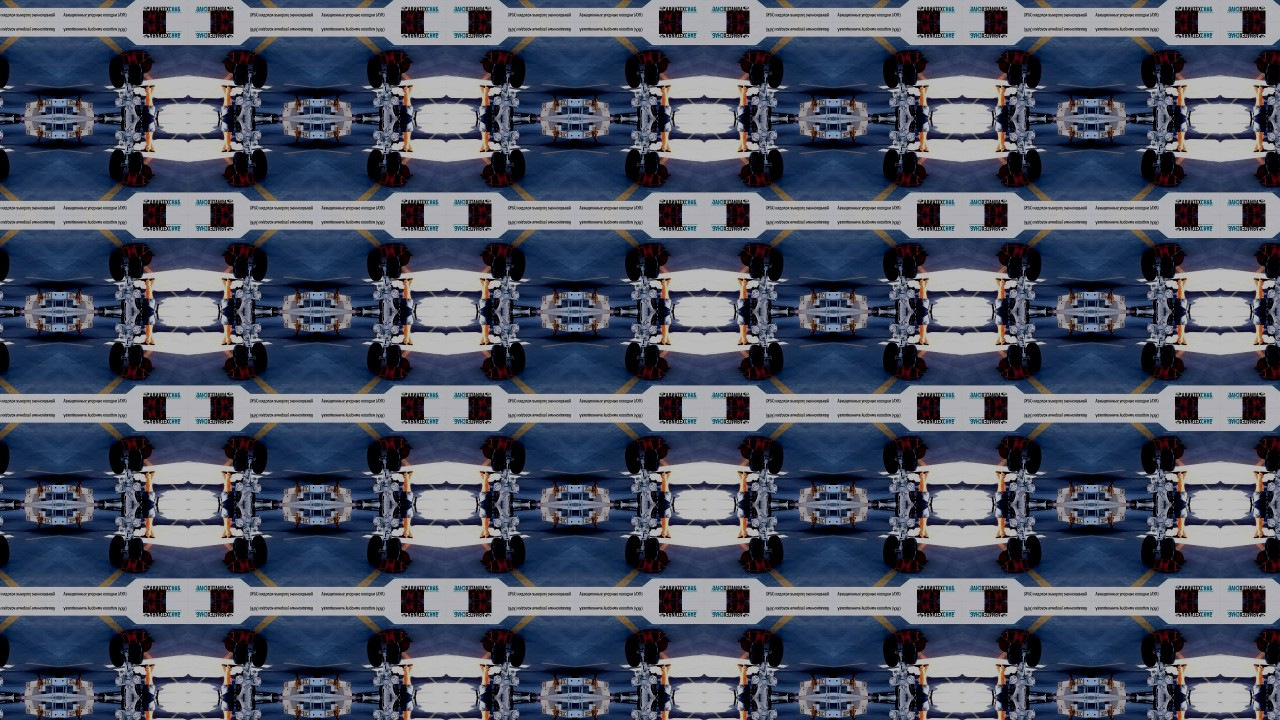chock: (119, 49, 148, 64), (225, 49, 254, 64), (378, 49, 407, 64), (484, 49, 513, 64), (637, 49, 666, 64), (743, 49, 772, 64), (896, 49, 925, 64), (1002, 49, 1031, 64), (1155, 49, 1184, 64), (119, 171, 148, 186), (225, 171, 254, 186), (378, 171, 407, 186), (484, 171, 513, 186), (637, 171, 666, 186), (743, 171, 772, 186), (896, 171, 925, 186), (1002, 171, 1031, 186), (1155, 171, 1184, 186), (119, 243, 148, 258), (225, 243, 254, 258), (378, 243, 407, 258), (484, 243, 513, 258), (637, 243, 666, 258), (743, 243, 772, 258), (896, 243, 925, 258), (1002, 243, 1031, 258), (1155, 243, 1184, 258), (119, 365, 148, 380), (225, 365, 254, 380), (378, 365, 407, 380), (484, 365, 513, 380), (637, 365, 666, 380), (743, 365, 772, 380), (896, 365, 925, 380), (1002, 365, 1031, 380), (1155, 365, 1184, 380), (119, 437, 148, 452), (225, 437, 254, 452), (378, 437, 407, 452), (484, 437, 513, 452), (637, 437, 666, 452), (743, 437, 772, 452), (896, 437, 925, 452), (1002, 437, 1031, 452), (1155, 437, 1184, 452), (119, 559, 148, 574), (225, 559, 254, 574), (378, 559, 407, 574), (484, 559, 513, 574), (637, 559, 666, 574), (743, 559, 772, 574), (896, 559, 925, 574), (1002, 559, 1031, 574), (1155, 559, 1184, 574), (119, 631, 148, 646), (225, 631, 254, 646), (378, 631, 407, 646), (484, 631, 513, 646), (637, 631, 666, 646), (743, 631, 772, 646), (896, 631, 925, 646), (1002, 631, 1031, 646), (1155, 631, 1184, 646), (141, 8, 164, 21), (209, 8, 232, 21), (400, 8, 423, 21), (468, 8, 491, 21), (659, 8, 682, 21), (727, 8, 750, 21), (918, 8, 941, 21), (986, 8, 1009, 21), (1177, 8, 1200, 21), (1245, 8, 1268, 21), (141, 214, 164, 227), (209, 214, 232, 227), (400, 214, 423, 227), (468, 214, 491, 227), (659, 214, 682, 227), (727, 214, 750, 227), (918, 214, 941, 227), (986, 214, 1009, 227), (1177, 214, 1200, 227), (1245, 214, 1268, 227), (141, 602, 164, 615), (209, 602, 232, 615), (400, 602, 423, 615), (468, 602, 491, 615), (659, 602, 682, 615), (727, 602, 750, 615), (918, 602, 941, 615), (986, 602, 1009, 615), (1177, 602, 1200, 615), (1245, 602, 1268, 615), (1261, 49, 1280, 64), (1261, 171, 1280, 186), (1261, 243, 1280, 258), (1261, 365, 1280, 380), (1261, 437, 1280, 452), (1261, 559, 1280, 574), (1261, 631, 1280, 646), (141, 21, 164, 33), (209, 21, 232, 33), (400, 21, 423, 33), (468, 21, 491, 33), (659, 21, 682, 33), (727, 21, 750, 33), (918, 21, 941, 33), (986, 21, 1009, 33), (1177, 21, 1200, 33), (1245, 21, 1268, 33), (141, 202, 164, 214), (209, 202, 232, 214), (400, 202, 423, 214), (468, 202, 491, 214), (659, 202, 682, 214), (727, 202, 750, 214), (918, 202, 941, 214), (986, 202, 1009, 214), (1177, 202, 1200, 214), (1245, 202, 1268, 214), (141, 397, 164, 409), (209, 397, 232, 409), (400, 397, 423, 409), (468, 397, 491, 409), (659, 397, 682, 409), (727, 397, 750, 409), (918, 397, 941, 409), (986, 397, 1009, 409), (1177, 397, 1200, 409), (1245, 397, 1268, 409), (141, 408, 164, 420), (209, 408, 232, 420), (400, 408, 423, 420), (468, 408, 491, 420), (659, 408, 682, 420), (727, 408, 750, 420), (918, 408, 941, 420), (986, 408, 1009, 420), (1177, 408, 1200, 420), (1245, 408, 1268, 420), (141, 590, 164, 602), (209, 590, 232, 602), (400, 590, 423, 602), (468, 590, 491, 602), (659, 590, 682, 602), (727, 590, 750, 602), (918, 590, 941, 602), (986, 590, 1009, 602), (1177, 590, 1200, 602), (1245, 590, 1268, 602), (140, 57, 152, 72), (221, 57, 233, 72), (399, 57, 411, 72), (480, 57, 492, 72), (658, 57, 670, 72), (739, 57, 751, 72), (917, 57, 929, 72), (998, 57, 1010, 72), (1176, 57, 1188, 72), (1257, 57, 1269, 72), (140, 163, 152, 178), (221, 163, 233, 178), (399, 163, 411, 178), (480, 163, 492, 178), (658, 163, 670, 178), (739, 163, 751, 178), (917, 163, 929, 178), (998, 163, 1010, 178), (1176, 163, 1188, 178), (1257, 163, 1269, 178), (140, 251, 152, 266), (221, 251, 233, 266), (399, 251, 411, 266), (480, 251, 492, 266), (658, 251, 670, 266), (739, 251, 751, 266), (917, 251, 929, 266), (998, 251, 1010, 266), (1176, 251, 1188, 266), (1257, 251, 1269, 266), (140, 357, 152, 372), (221, 357, 233, 372), (399, 357, 411, 372), (480, 357, 492, 372), (658, 357, 670, 372), (739, 357, 751, 372), (917, 357, 929, 372), (998, 357, 1010, 372), (1176, 357, 1188, 372), (1257, 357, 1269, 372), (140, 445, 152, 460), (221, 445, 233, 460), (399, 445, 411, 460), (480, 445, 492, 460), (658, 445, 670, 460), (739, 445, 751, 460), (917, 445, 929, 460), (998, 445, 1010, 460), (1176, 445, 1188, 460), (1257, 445, 1269, 460), (140, 551, 152, 566), (221, 551, 233, 566), (399, 551, 411, 566), (480, 551, 492, 566), (658, 551, 670, 566), (739, 551, 751, 566), (917, 551, 929, 566), (998, 551, 1010, 566), (1176, 551, 1188, 566), (1257, 551, 1269, 566), (140, 639, 152, 654), (221, 639, 233, 654), (399, 639, 411, 654), (480, 639, 492, 654), (658, 639, 670, 654), (739, 639, 751, 654), (917, 639, 929, 654), (998, 639, 1010, 654), (1176, 639, 1188, 654), (1257, 639, 1269, 654)
wheel: (107, 58, 123, 87), (250, 58, 266, 87), (366, 58, 382, 87), (509, 58, 525, 87), (625, 58, 641, 87), (768, 58, 784, 87), (884, 58, 900, 87), (1027, 58, 1043, 87), (1143, 58, 1159, 87), (107, 148, 123, 177), (250, 148, 266, 177), (366, 148, 382, 177), (509, 148, 525, 177), (625, 148, 641, 177), (768, 148, 784, 177), (884, 148, 900, 177), (1027, 148, 1043, 177), (1143, 148, 1159, 177), (107, 252, 123, 281), (250, 252, 266, 281), (366, 252, 382, 281), (509, 252, 525, 281), (625, 252, 641, 281), (768, 252, 784, 281), (884, 252, 900, 281), (1027, 252, 1043, 281), (1143, 252, 1159, 281), (107, 342, 123, 371), (250, 342, 266, 371), (366, 342, 382, 371), (509, 342, 525, 371), (625, 342, 641, 371), (768, 342, 784, 371), (884, 342, 900, 371), (1027, 342, 1043, 371), (1143, 342, 1159, 371), (107, 446, 123, 475), (250, 446, 266, 475), (366, 446, 382, 475), (509, 446, 525, 475), (625, 446, 641, 475), (768, 446, 784, 475), (884, 446, 900, 475), (1027, 446, 1043, 475), (1143, 446, 1159, 475), (107, 536, 123, 565), (250, 536, 266, 565), (366, 536, 382, 565), (509, 536, 525, 565), (625, 536, 641, 565), (768, 536, 784, 565), (884, 536, 900, 565), (1027, 536, 1043, 565), (1143, 536, 1159, 565), (107, 640, 123, 669), (250, 640, 266, 669), (366, 640, 382, 669), (509, 640, 525, 669), (625, 640, 641, 669), (768, 640, 784, 669), (884, 640, 900, 669), (1027, 640, 1043, 669), (1143, 640, 1159, 669), (127, 62, 142, 84), (231, 62, 246, 84), (386, 62, 401, 84), (490, 62, 505, 84), (645, 62, 660, 84), (749, 62, 764, 84), (904, 62, 919, 84), (1008, 62, 1023, 84), (1163, 62, 1178, 84), (127, 151, 142, 173), (231, 151, 246, 173), (386, 151, 401, 173), (490, 151, 505, 173), (645, 151, 660, 173), (749, 151, 764, 173), (904, 151, 919, 173), (1008, 151, 1023, 173), (1163, 151, 1178, 173), (127, 256, 142, 278), (231, 256, 246, 278), (386, 256, 401, 278), (490, 256, 505, 278), (645, 256, 660, 278), (749, 256, 764, 278), (904, 256, 919, 278), (1008, 256, 1023, 278), (1163, 256, 1178, 278), (127, 345, 142, 367), (231, 345, 246, 367), (386, 345, 401, 367), (490, 345, 505, 367), (645, 345, 660, 367), (749, 345, 764, 367), (904, 345, 919, 367), (1008, 345, 1023, 367), (1163, 345, 1178, 367), (127, 450, 142, 472), (231, 450, 246, 472), (386, 450, 401, 472), (490, 450, 505, 472), (645, 450, 660, 472), (749, 450, 764, 472), (904, 450, 919, 472), (1008, 450, 1023, 472), (1163, 450, 1178, 472), (127, 539, 142, 561), (231, 539, 246, 561), (386, 539, 401, 561), (490, 539, 505, 561), (645, 539, 660, 561), (749, 539, 764, 561), (904, 539, 919, 561), (1008, 539, 1023, 561), (1163, 539, 1178, 561), (127, 644, 142, 666), (231, 644, 246, 666), (386, 644, 401, 666), (490, 644, 505, 666), (645, 644, 660, 666), (749, 644, 764, 666), (904, 644, 919, 666), (1008, 644, 1023, 666), (1163, 644, 1178, 666), (1267, 62, 1280, 84), (1267, 151, 1280, 173), (1267, 256, 1280, 278), (1267, 345, 1280, 367), (1267, 450, 1280, 472), (1267, 539, 1280, 561), (1267, 644, 1280, 666), (0, 58, 7, 87), (0, 148, 7, 177), (0, 252, 7, 281), (0, 342, 7, 371), (0, 446, 7, 475), (0, 536, 7, 565), (0, 640, 7, 669)
